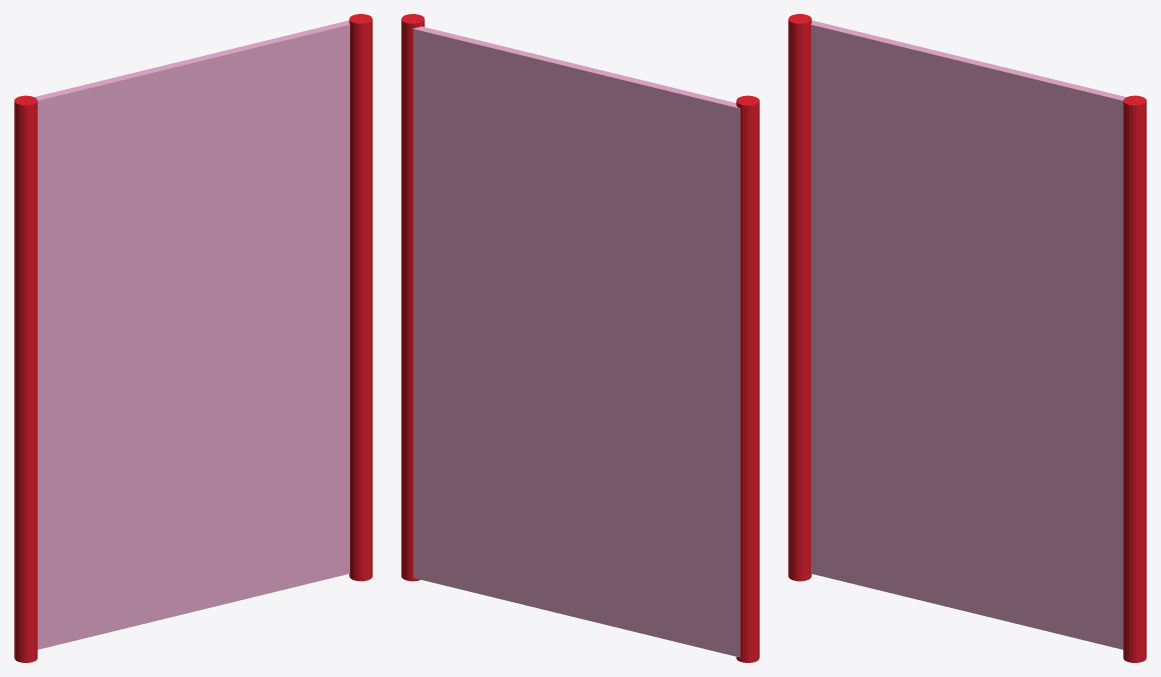
File: tinker.obj
3 renders of one model, left to right at view 1: azimuth 30°, elevation 25°; view 2: azimuth 150°, elevation 25°; view 3: azimuth 330°, elevation 25°, orthographic.
Parts seen in each view (by area): view 1: group_0_15708628, group_0_15277357; view 2: group_0_15708628, group_0_15277357; view 3: group_0_15708628, group_0_15277357.
Boxes of the visible parts, <box> form: group_0_15708628: <box>34,20,349,649</box>; group_0_15277357: <box>14,14,372,662</box>; group_0_15708628: <box>413,26,740,657</box>; group_0_15277357: <box>401,14,759,662</box>; group_0_15708628: <box>811,20,1126,649</box>; group_0_15277357: <box>788,14,1146,662</box>.
Bounding box in the file's own units: 88 × 132 × 5.
